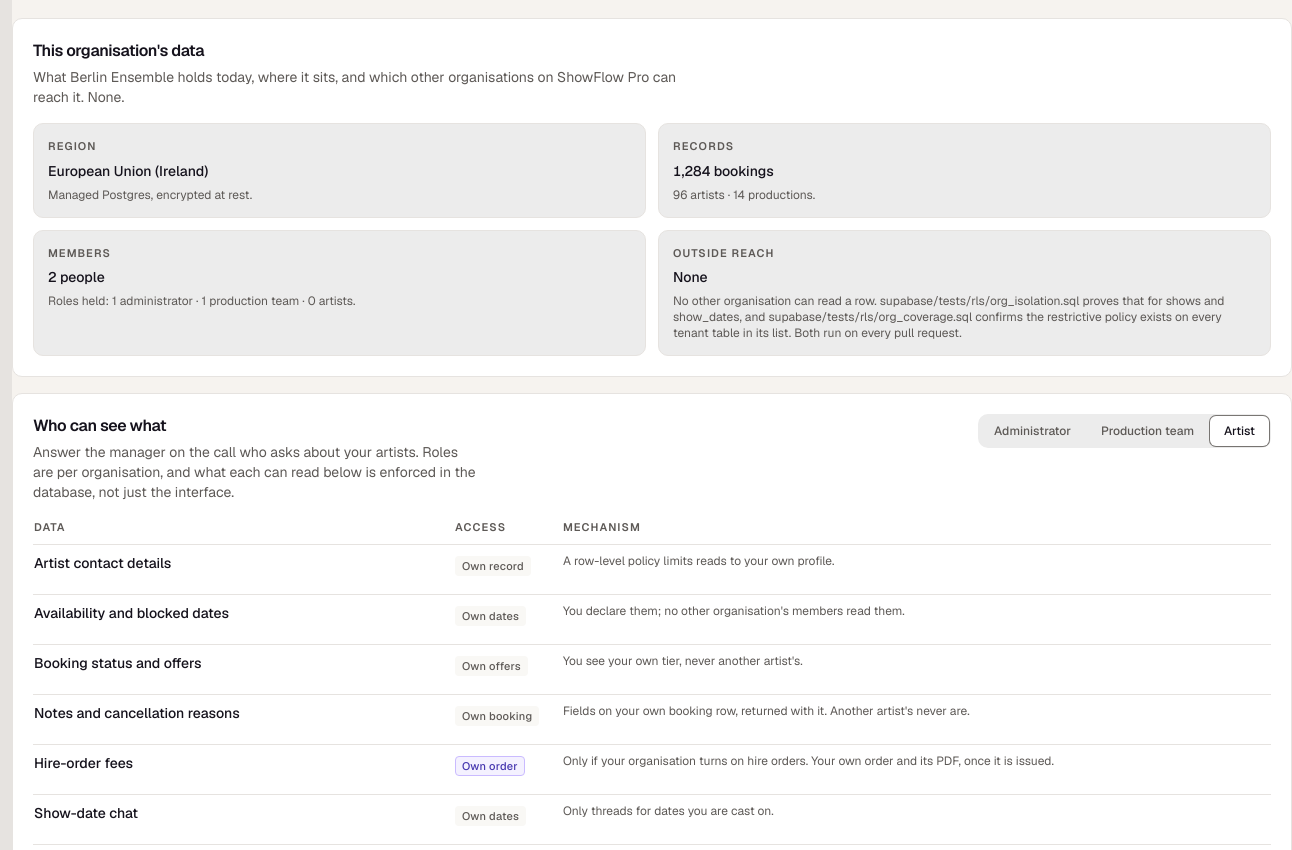
it: TrustDataTab › switches every row when a different role is picked
Click the radio button labelled "Administrator".
click(1032, 431)  # box [980,416,1085,446]
(page scrolled)
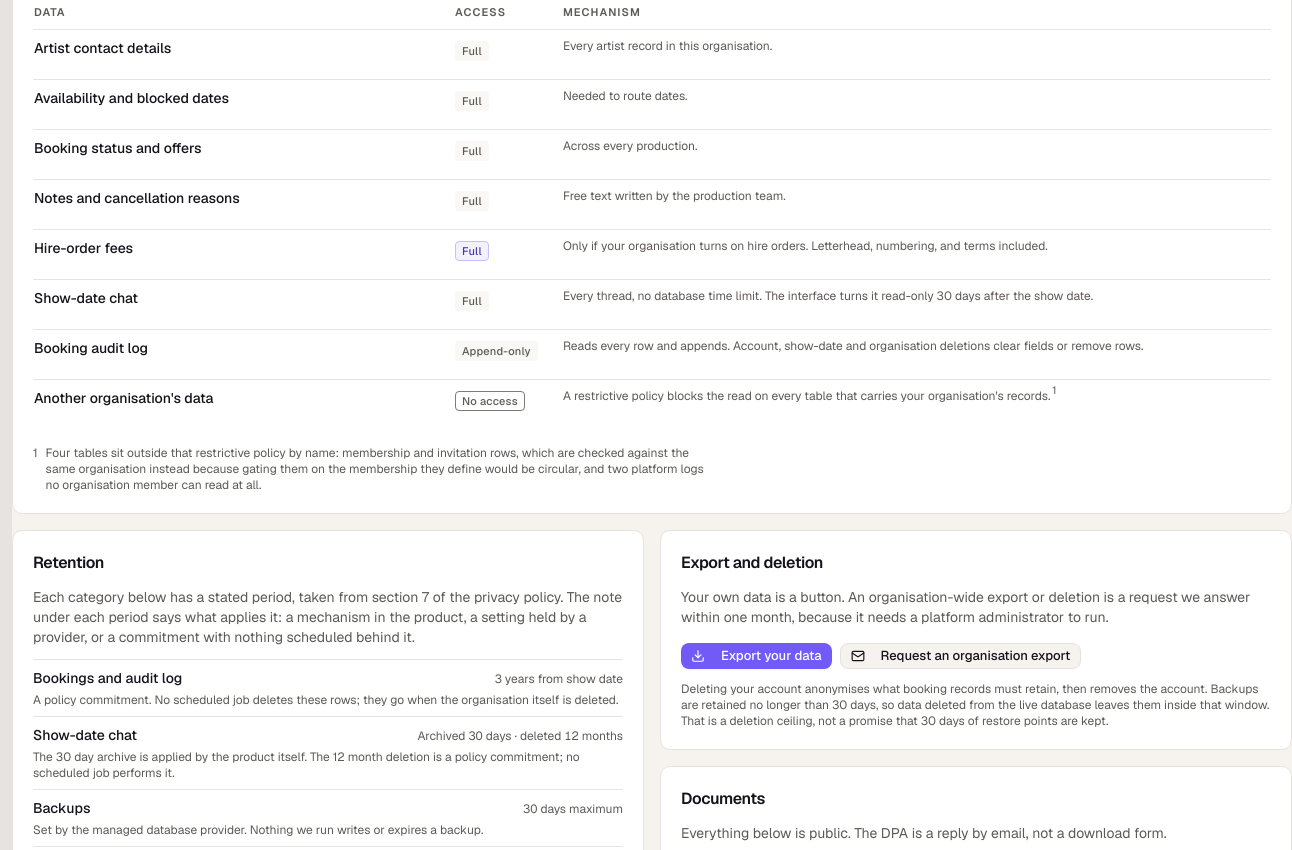
Now the text "Full" in the row of "Artist contact details" is shown, box [462,44,482,58]
Now the text "Full" in the row of "Availability and blocked dates" is shown, box [462,94,482,108]
Now the text "Full" in the row of "Booking status and offers" is shown, box [462,144,482,158]
